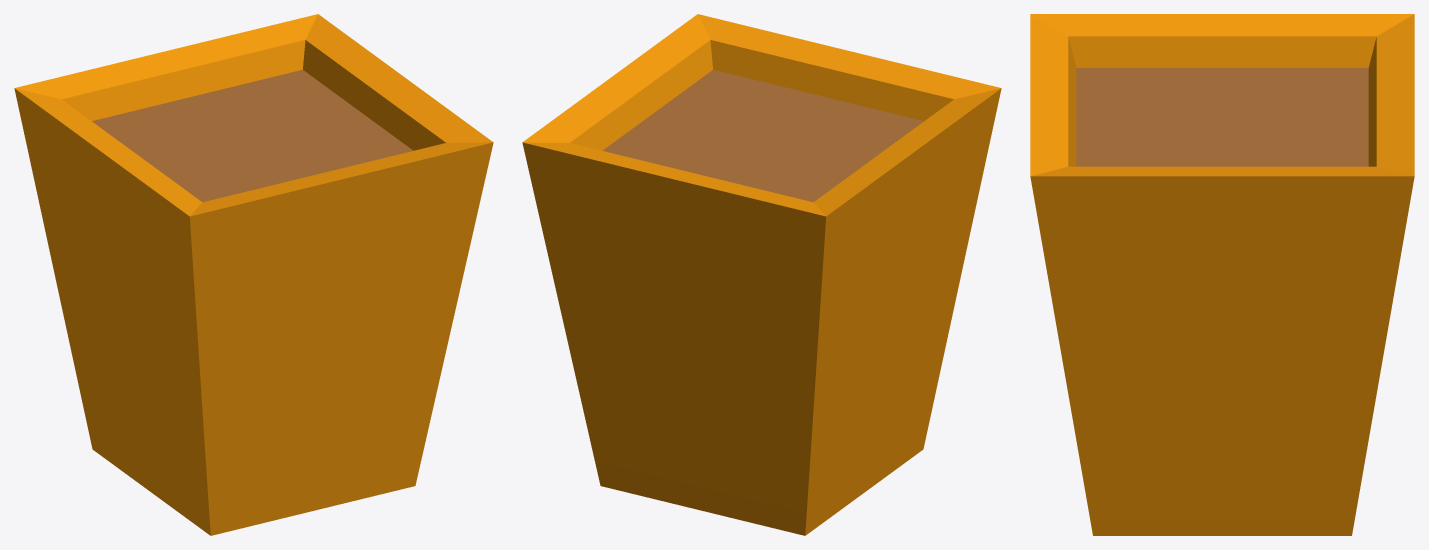
File: PlantPot_4_A.fbx
3 views of the same model, side by side, from view 1: azimuth 30°, elevation 25°; view 2: azimuth 150°, elevation 25°; view 3: azimuth 270°, elevation 25° (orthographic). The views are drawn at different scales.
Parts seen in each view (by area): view 1: PlantPot_4_A; view 2: PlantPot_4_A; view 3: PlantPot_4_A.
Boxes of the visible parts, x1=… form: PlantPot_4_A: x1=14, y1=14, x2=493, y2=535; PlantPot_4_A: x1=522, y1=14, x2=1001, y2=535; PlantPot_4_A: x1=1030, y1=14, x2=1414, y2=535.
Bounding box in the file's own units: 21.63 × 23.98 × 21.63.
